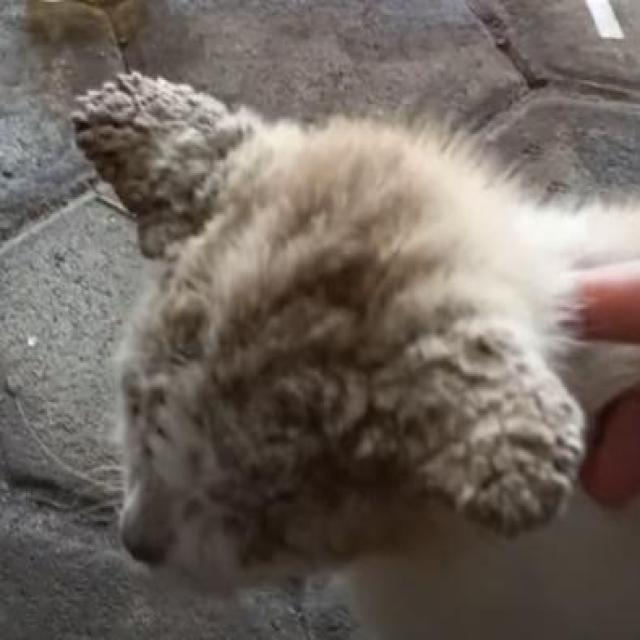ghe: (337, 312, 592, 538), (69, 71, 262, 247)
